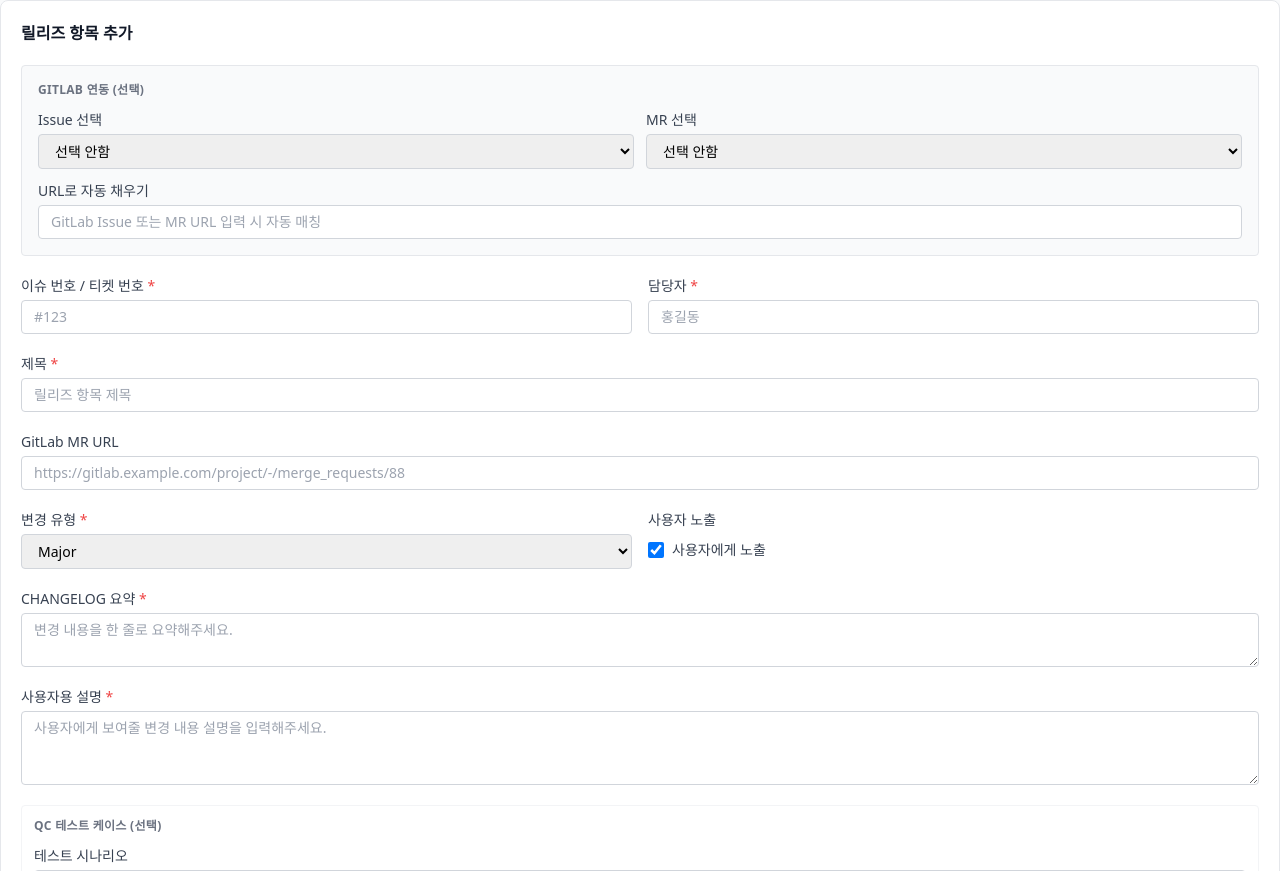
Scenario: ReleaseItemForm › GitLab Issue 선택 시 제목·이슈 번호·담당자가 자동 채워진다
Step 1. Select "#123 로그인 실패 안내 문구 개선" in the dropdown labelled "Issue 선택" → (336, 152), box [38,134,634,169]
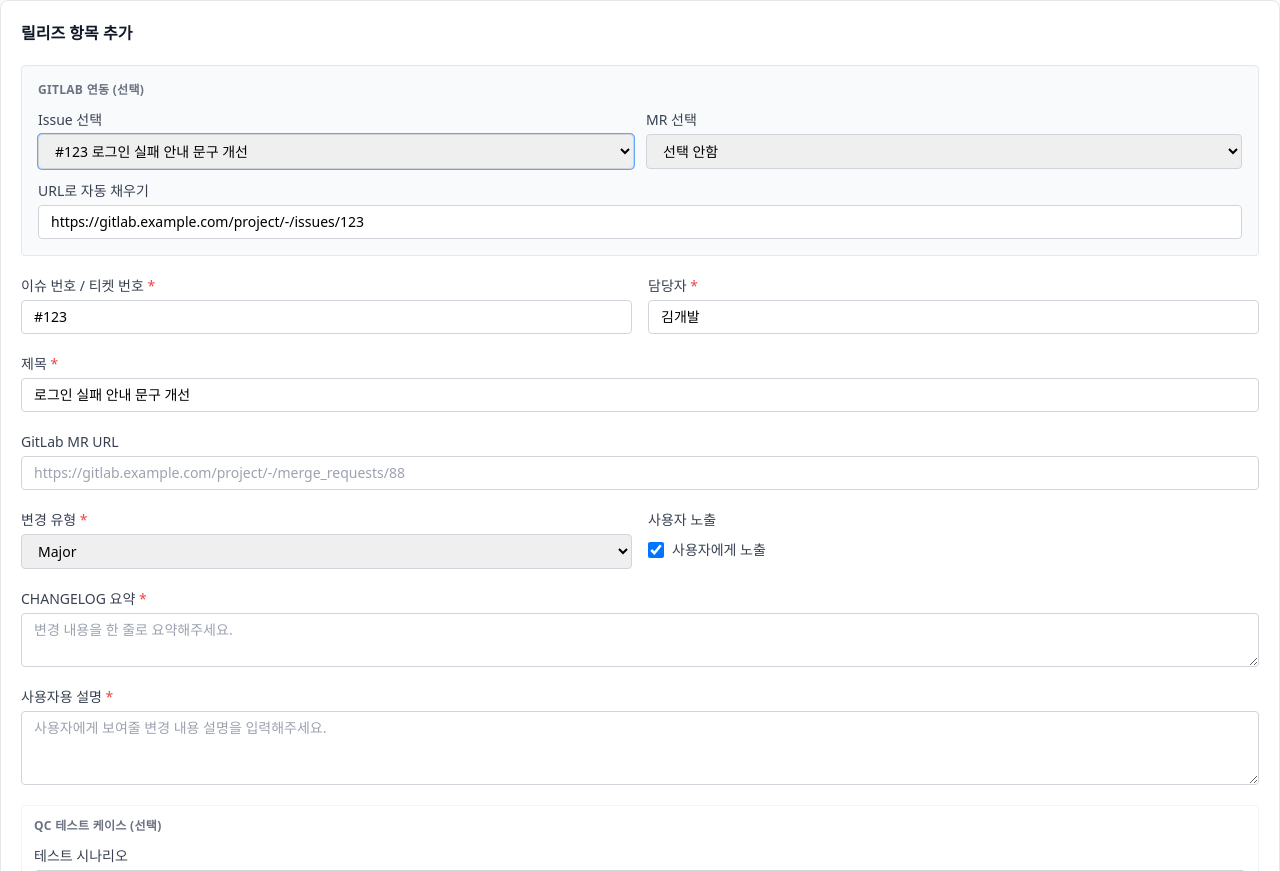
expect the field labelled "이슈 번호 / 티켓 번호 *" holds "#123": met, box [21,300,632,334]
expect the field labelled "제목 *" holds "로그인 실패 안내 문구 개선": met, box [21,378,1259,412]
expect the field labelled "담당자 *" holds "김개발": met, box [648,300,1259,334]
